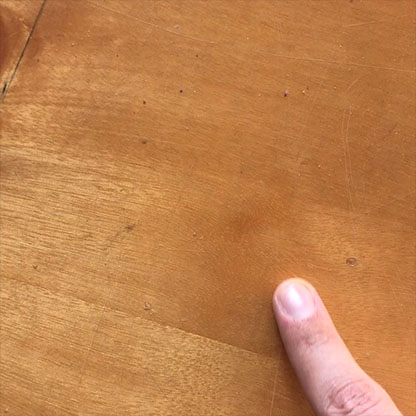fingertip: (260, 263, 328, 331)
